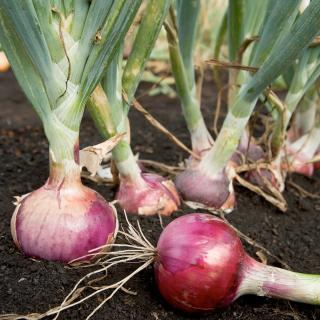Bawang Merah: (151, 213, 249, 317), (13, 180, 119, 265)
